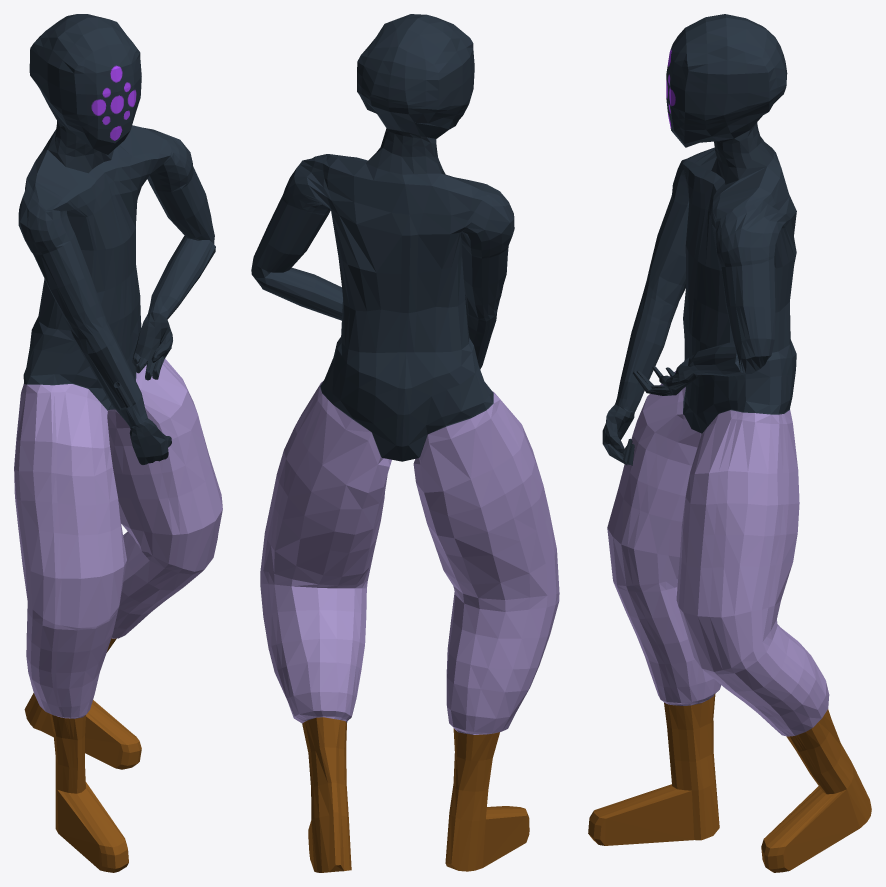
File: Oracle_WB_000005.obj
3 views of the same model, side by side, from view 1: azimuth 30°, elevation 25°; view 2: azimuth 150°, elevation 25°; view 3: azimuth 270°, elevation 25° (orthographic). The views are drawn at different scales.
Visible parts, largest first — view 1: Cube; view 2: Cube; view 3: Cube.
Boxes of the visible parts, x1,y1,x2,y2 form: Cube: (14,14,222,872); Cube: (251,14,559,872); Cube: (588,14,871,872).
Size of the model in its own units: 1.17 by 3.88 by 1.19.
